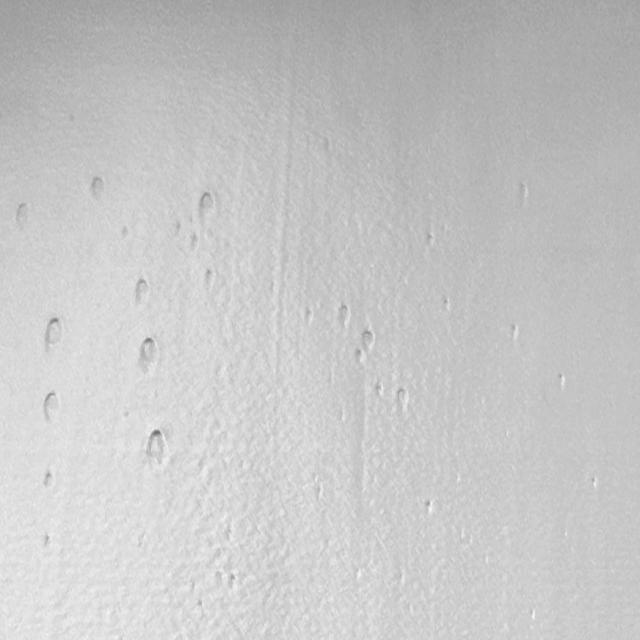pin holes: (144, 426, 174, 471), (136, 335, 162, 375), (40, 314, 66, 350), (42, 388, 66, 424), (133, 276, 152, 307), (87, 175, 107, 204), (197, 190, 217, 219), (513, 182, 534, 208), (362, 326, 381, 354), (12, 201, 32, 227), (392, 388, 410, 414), (336, 304, 353, 330), (39, 468, 57, 492), (38, 533, 56, 555), (352, 346, 370, 366), (422, 498, 436, 519), (422, 230, 436, 250), (440, 295, 454, 315), (119, 224, 133, 243), (203, 268, 216, 288), (508, 324, 521, 343), (555, 372, 567, 392), (587, 475, 600, 493), (227, 573, 239, 592), (188, 233, 200, 252), (304, 307, 316, 325), (374, 380, 386, 398), (526, 607, 538, 625), (195, 597, 208, 613), (172, 221, 183, 236)
